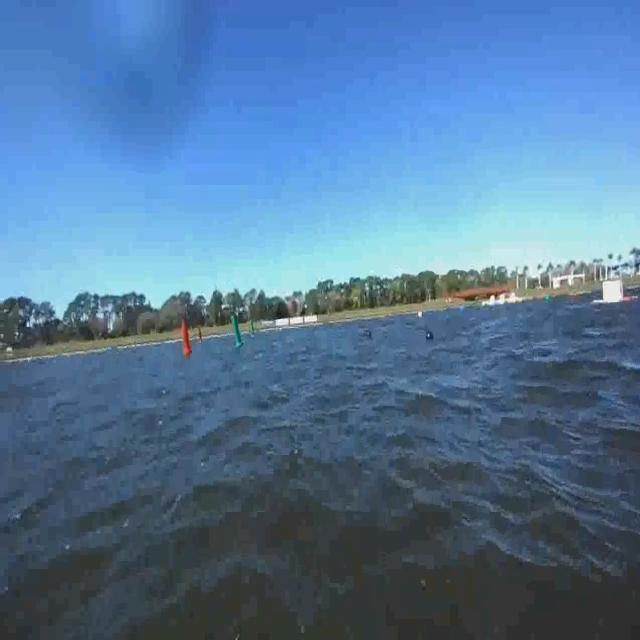black-buoy: (426, 332, 433, 342), (366, 329, 372, 339)
green-column-buoy: (232, 316, 245, 349), (250, 320, 256, 337)
red-column-buoy: (182, 320, 195, 357), (198, 327, 205, 345)
